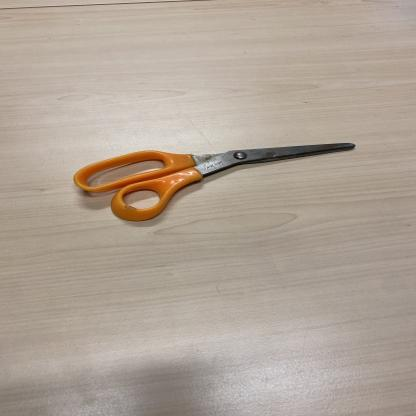scissors: (73, 142, 358, 221)
